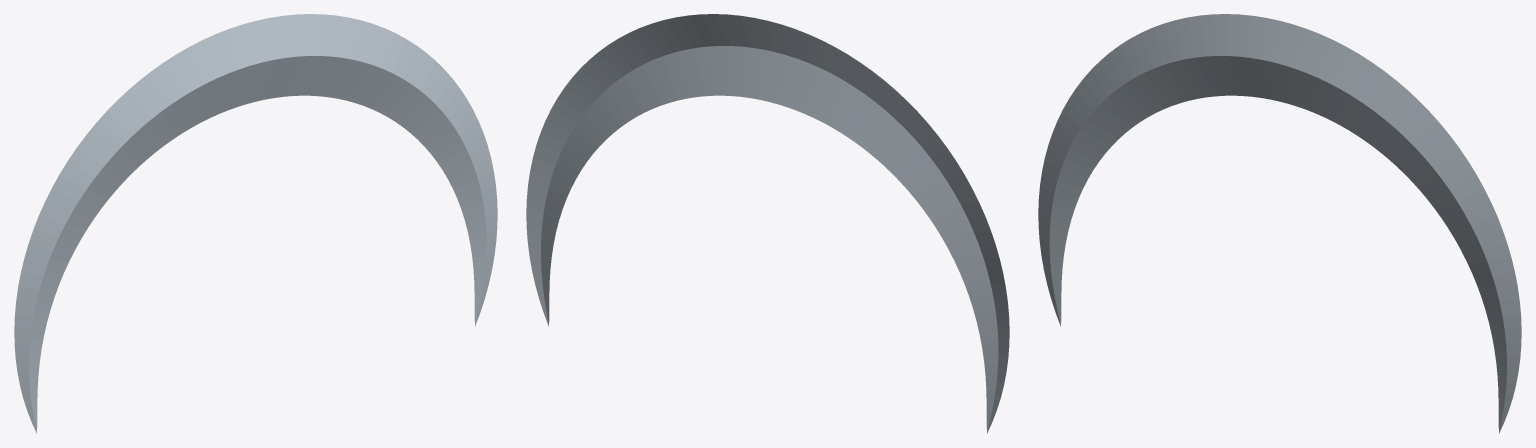
File: crescent.glb
The picture shows the model from 3 angles, left to right: view 1: azimuth 30°, elevation 25°; view 2: azimuth 150°, elevation 25°; view 3: azimuth 330°, elevation 25°; orthographic projection.
Visible parts, largest first — view 1: Crescent; view 2: Crescent; view 3: Crescent.
Boxes of the visible parts, x1,y1,x2,y2 form: Crescent: (14,14,497,433); Crescent: (526,14,1009,433); Crescent: (1038,14,1521,433).
Size of the model in its own units: 1 by 0.7113 by 0.025.
